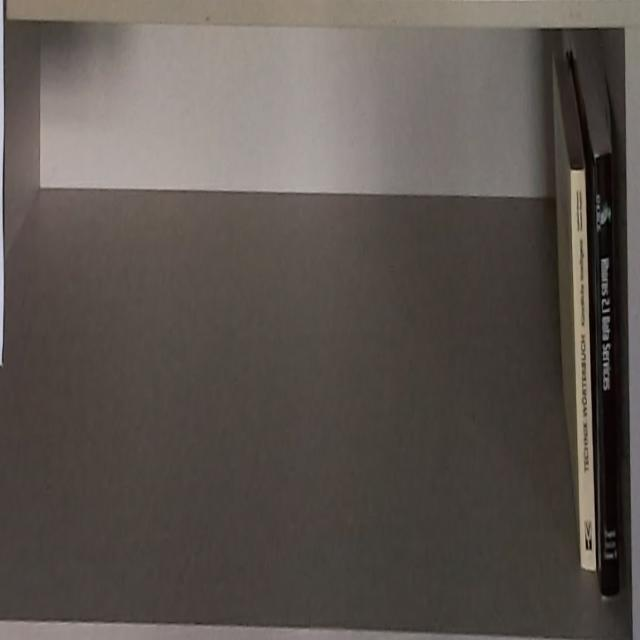Book Spine: (595, 151, 619, 598), (571, 169, 596, 573)
